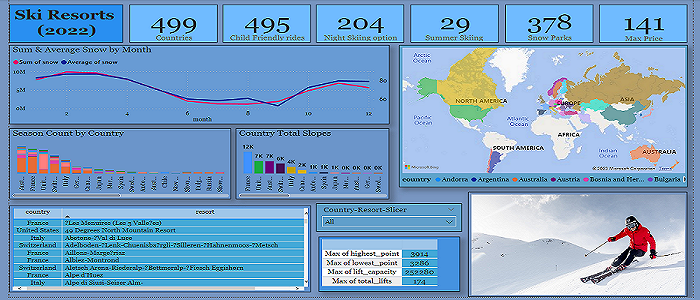

The page's visual inventory and layout, read from the dashboard file:
{"tool":"powerbi","page":{"name":"Page 1","canvas":[1280,720],"ordinal":0},"visuals":[{"type":"lineChart","title":"Sum & Average Snow by Month","fields":{"Y":["Sum(snow.snow)"],"Category":["snow.month"],"Y2":["Avg(snow.snow)"]},"box":[0,110.4,712.2,191.2],"z":0},{"type":"textbox","box":[0,12.2,212.7,91.7],"z":1000},{"type":"card","fields":{"Values":["CountNonNull(resorts.country)"]},"box":[224.4,12.7,165.1,92],"z":2000},{"type":"card","fields":{"Values":["resorts.Count of child_friendly for yes"]},"box":[399.4,12.7,165.1,92],"z":3000},{"type":"card","fields":{"Values":["resorts.Count of nightskiing for yes"]},"box":[574.4,12.7,165.1,92],"z":4000},{"type":"card","fields":{"Values":["resorts.Count of summer_skiing for yes"]},"box":[752.2,12.7,165.1,92],"z":5000},{"type":"card","fields":{"Values":["resorts.Count of snowparks for yes"]},"box":[928.6,12.7,165,92],"z":6000},{"type":"filledMap","fields":{"Series":["resorts.country"],"Category":["resorts.country"]},"box":[729.2,110.4,540.9,344.1],"z":7000},{"type":"tableEx","fields":{"Values":["resorts.country","resorts.resort"]},"box":[0,498.4,565,209.6],"z":8000},{"type":"slicer","title":"Country ","fields":{"Values":["resorts.country","resorts.resort"]},"box":[574.9,494.2,273.3,68],"z":9000},{"type":"pivotTable","fields":{"Values":["Max(resorts.highest_point)","Max(resorts.lowest_point)","Max(resorts.lift_capacity)","Max(resorts.total_lifts)"]},"box":[579.1,574.9,264.8,133.1],"z":10000},{"type":"image","box":[859.5,465.8,410.6,253.5],"z":11000},{"type":"card","fields":{"Values":["resorts.Max of price max per price"]},"box":[1105,12.7,165.1,92],"z":12000},{"type":"columnChart","title":"Season Count by Country","fields":{"Category":["resorts.country"],"Series":["resorts.season"],"Y":["CountNonNull(resorts.season)"]},"box":[0,311.5,414.9,171.3],"z":13000},{"type":"columnChart","title":"Country Total Slopes","fields":{"Category":["resorts.country"],"Y":["Sum(resorts.total_slopes)"],"Series":["resorts.country"]},"box":[424.8,311.5,287.4,171.3],"z":14000}]}

Visuals, with their boxes on the page's 1280x720 design canvas (x1, y1, x2, y2). These are canvas units, not pixel positions in the 700x300 screenshot, which may show the page scaled, cropped or inside an application window:
"Sum & Average Snow by Month" lineChart: x1=0, y1=110, x2=712, y2=302
textbox: x1=0, y1=12, x2=213, y2=104
card - CountNonNull(resorts.country): x1=224, y1=13, x2=390, y2=105
card - resorts.Count of child_friendly for yes: x1=399, y1=13, x2=564, y2=105
card - resorts.Count of nightskiing for yes: x1=574, y1=13, x2=740, y2=105
card - resorts.Count of summer_skiing for yes: x1=752, y1=13, x2=917, y2=105
card - resorts.Count of snowparks for yes: x1=929, y1=13, x2=1094, y2=105
filledMap - resorts.country x resorts.country: x1=729, y1=110, x2=1270, y2=454
tableEx - resorts.country x resorts.resort: x1=0, y1=498, x2=565, y2=708
"Country " slicer: x1=575, y1=494, x2=848, y2=562
pivotTable - Max(resorts.highest_point) x Max(resorts.lowest_point): x1=579, y1=575, x2=844, y2=708
image: x1=860, y1=466, x2=1270, y2=719
card - resorts.Max of price max per price: x1=1105, y1=13, x2=1270, y2=105
"Season Count by Country" columnChart: x1=0, y1=312, x2=415, y2=483
"Country Total Slopes" columnChart: x1=425, y1=312, x2=712, y2=483
